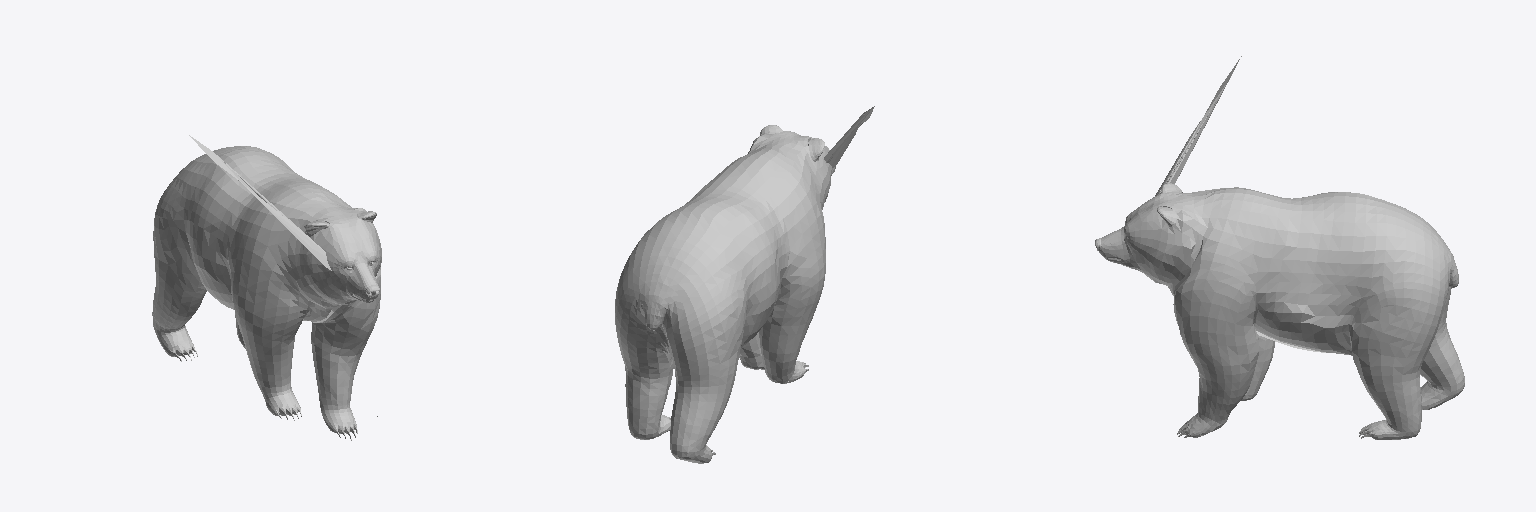
The model's file is Bear0159.obj.
The picture shows the model from 3 angles: view 1: azimuth 30°, elevation 25°; view 2: azimuth 150°, elevation 25°; view 3: azimuth 270°, elevation 25°; orthographic projection.
Parts seen in each view (by area): view 1: Object_237; view 2: Object_237; view 3: Object_237.
Part boxes in pixels (bbox=[...]): Object_237: bbox=[152, 135, 381, 440]; Object_237: bbox=[615, 106, 874, 463]; Object_237: bbox=[1095, 56, 1464, 439].
Bounding box in the file's own units: 2.7 × 4.63 × 4.92.